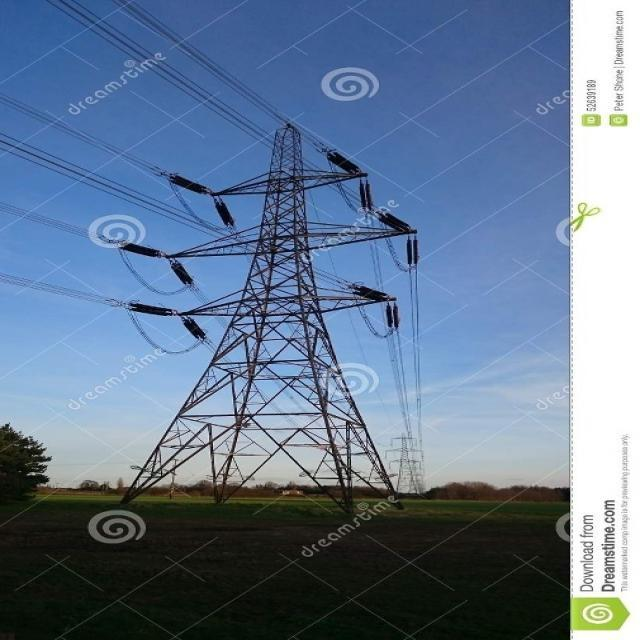non-critical vegetation: (89, 104, 458, 515)
